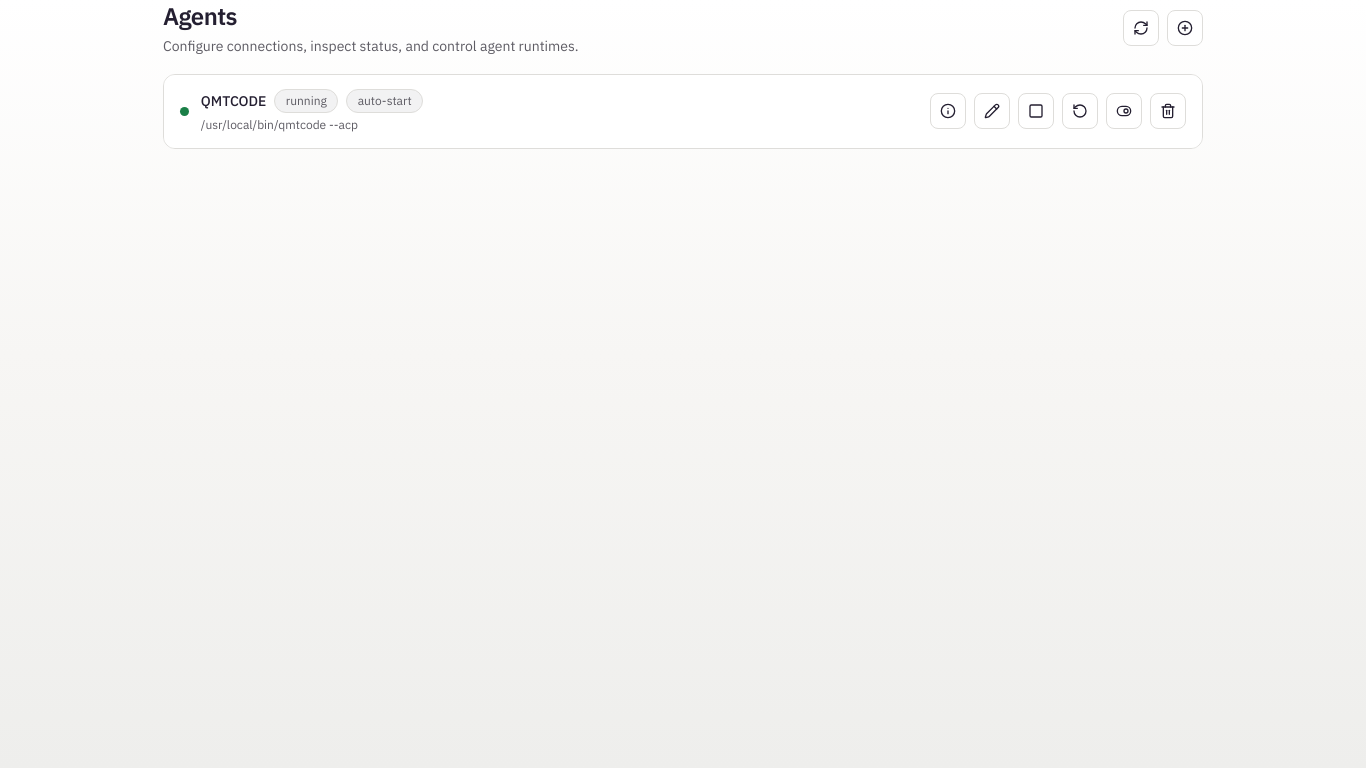
Test: Agents page › keeps delete visible with the other row actions
The width and height of the screenshot is (1366, 768).
What coordinates should you click on to do the following:
click the button named "Delete QMTCODE"
I would click on:
 (1168, 111)
Its box is [1150,93,1186,129].
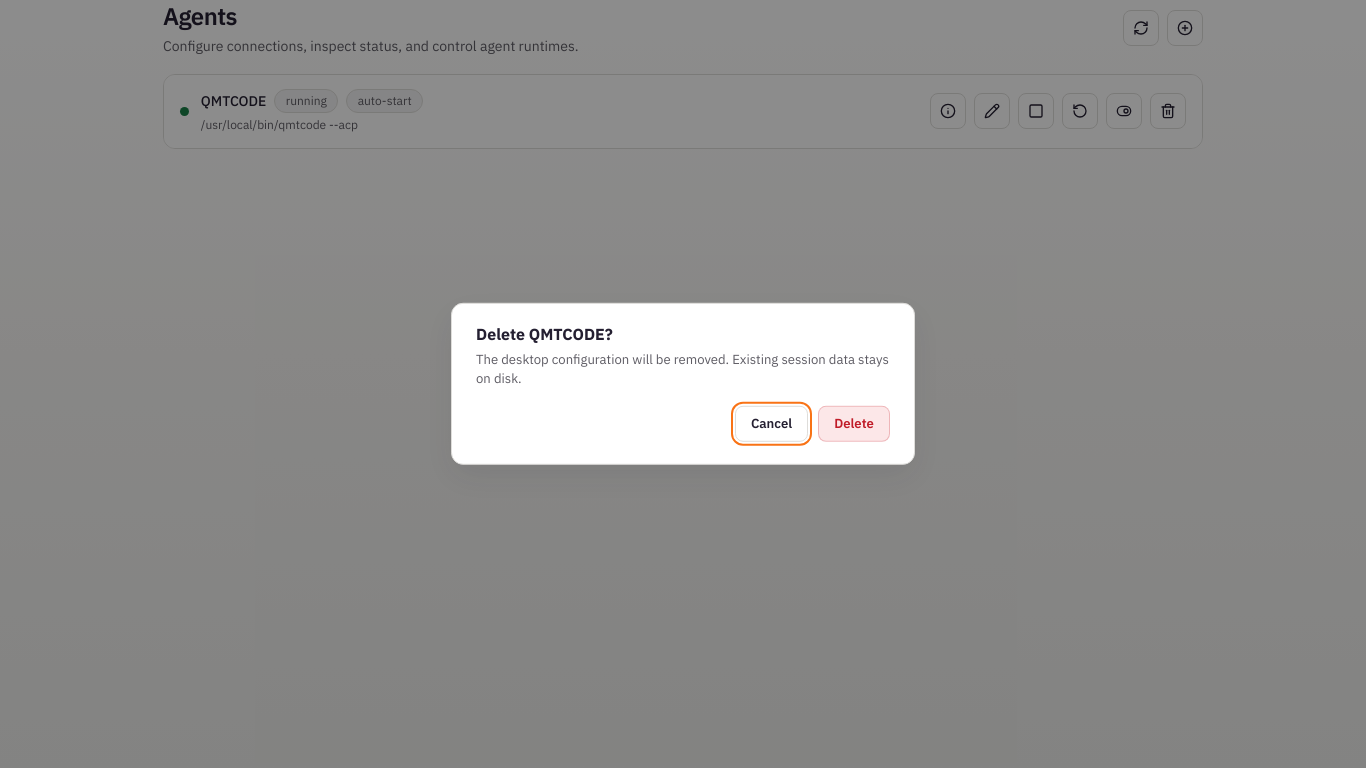
expect the dialog shows "Delete QMTCODE?": met, box [476,324,613,344]
